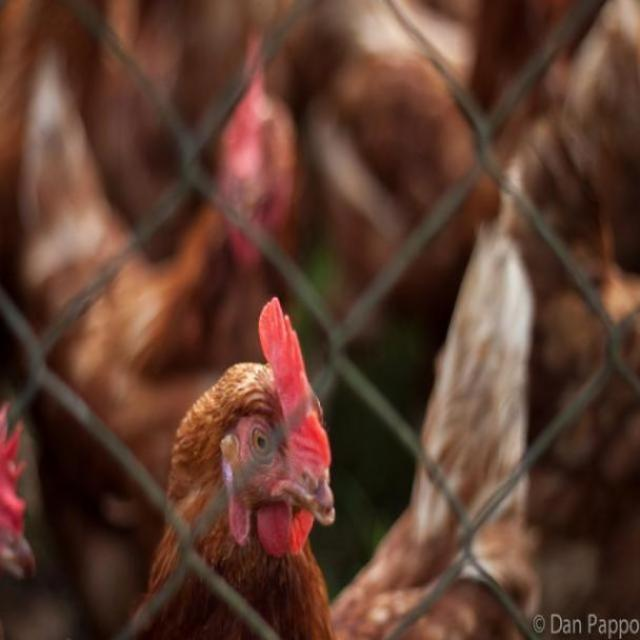Chicken: (1, 0, 638, 636)
